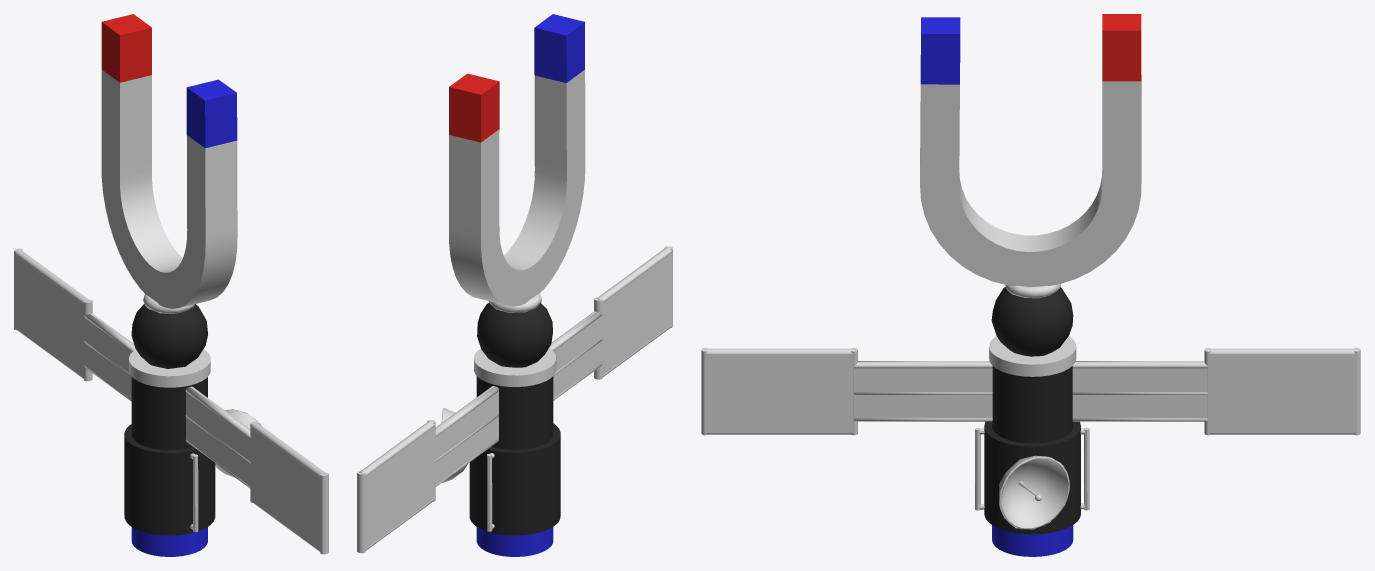
Rendered from Satellite.fbx.
3 views of the same model, side by side, from view 1: azimuth 30°, elevation 25°; view 2: azimuth 150°, elevation 25°; view 3: azimuth 270°, elevation 25° (orthographic). The views are drawn at different scales.
Visible parts, largest first — view 1: Torus; view 2: Torus; view 3: Torus.
Part boxes in pixels (x1=…): Torus: x1=14, y1=14, x2=328, y2=556; Torus: x1=357, y1=14, x2=672, y2=556; Torus: x1=701, y1=14, x2=1360, y2=556.
Bounding box in the file's own units: 378 × 1402 × 1620.
